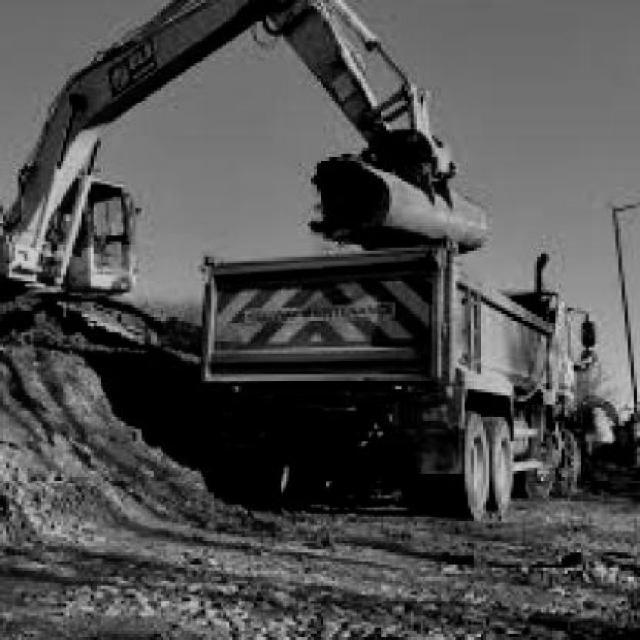Box Truck: (202, 246, 598, 522)
Construction Equipment: (0, 0, 490, 346)
